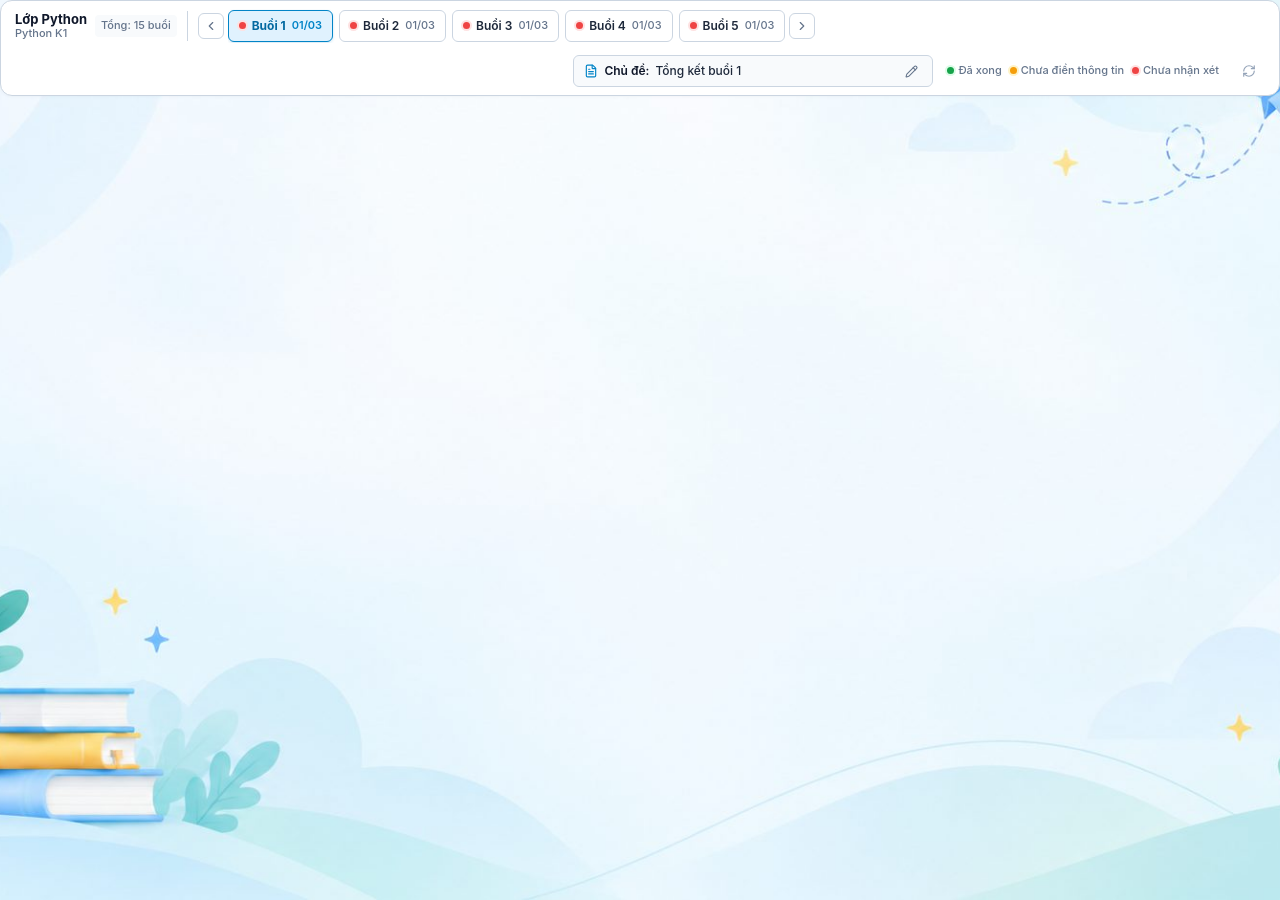
Scenario: SessionSelector topic editing and saving › closes edit panel when slot changes
This screenshot has width=1280, height=900.
Click the button named "Chỉnh sửa chủ đề" at point(911, 71), box top-left (900, 60), bottom-right (922, 82)
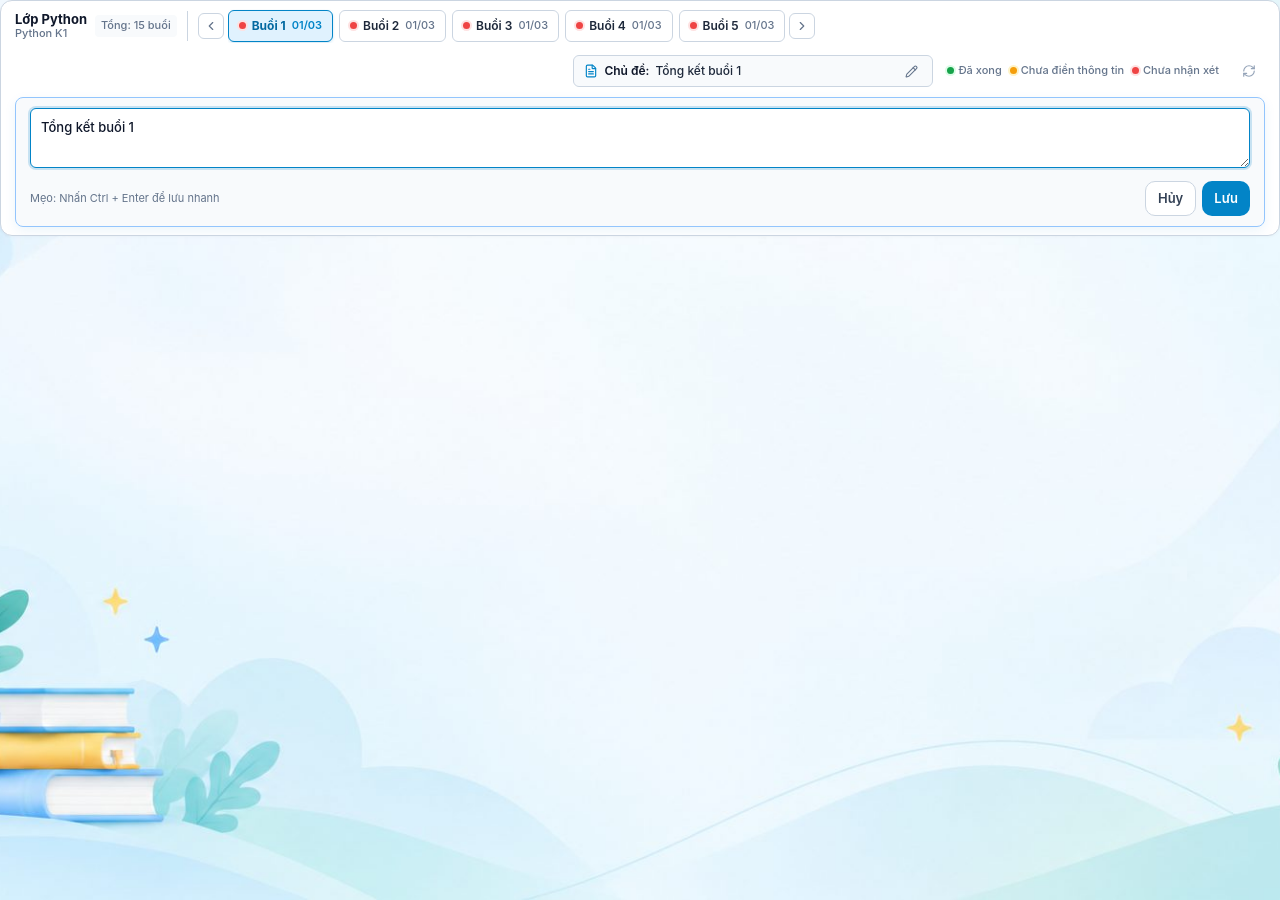
Check: the text box with placeholder "Nhập chủ đề hoặc tổng kết buổi học..." is shown, box top-left (30, 108), bottom-right (1250, 168)
